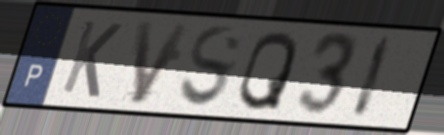3: (294, 29, 359, 120)
I: (348, 33, 397, 122)
K: (57, 17, 126, 101)
Q: (235, 29, 300, 114)
S: (176, 23, 246, 111)
V: (128, 18, 194, 107)
